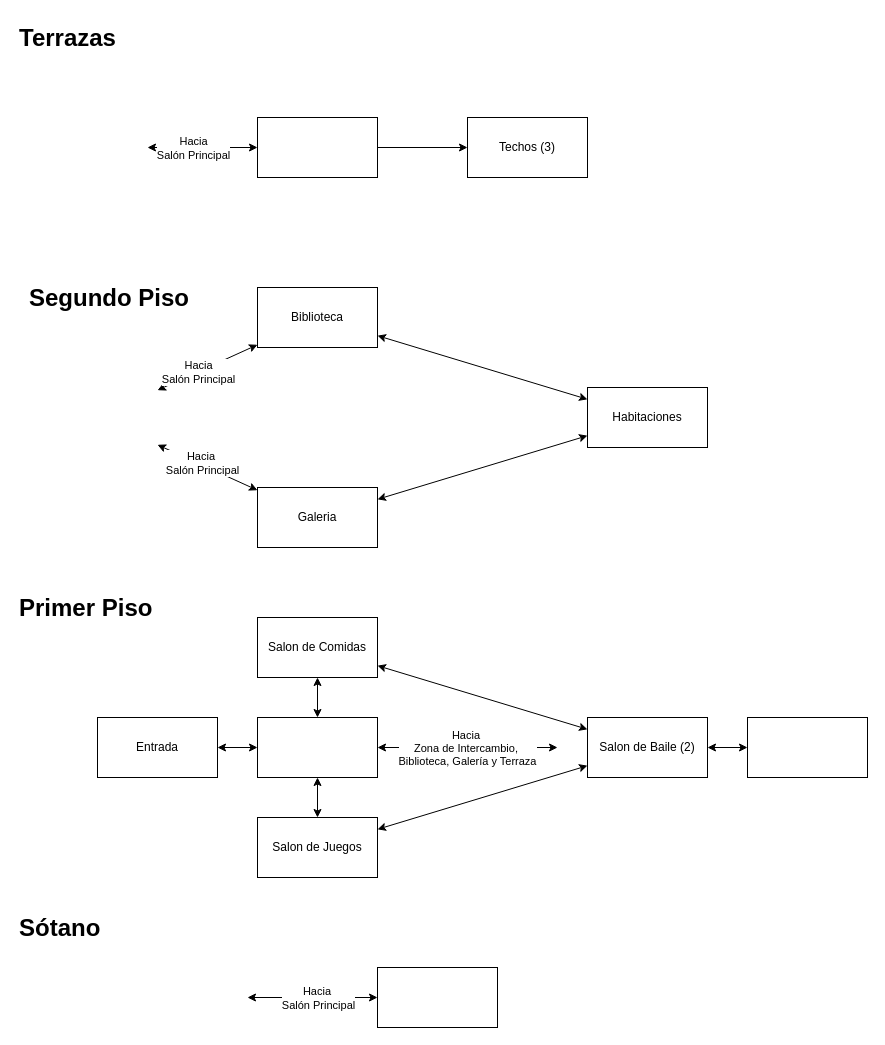
Image size: 885x1045. Some labels were removed from this diagram. Each missing label, with the box of its shape:
Jardin Externo (2): (746, 716, 868, 778)
Salon Principal: (256, 716, 378, 778)
Terraza: (256, 116, 378, 178)
Zona de Intercambio (3): (376, 966, 498, 1028)
